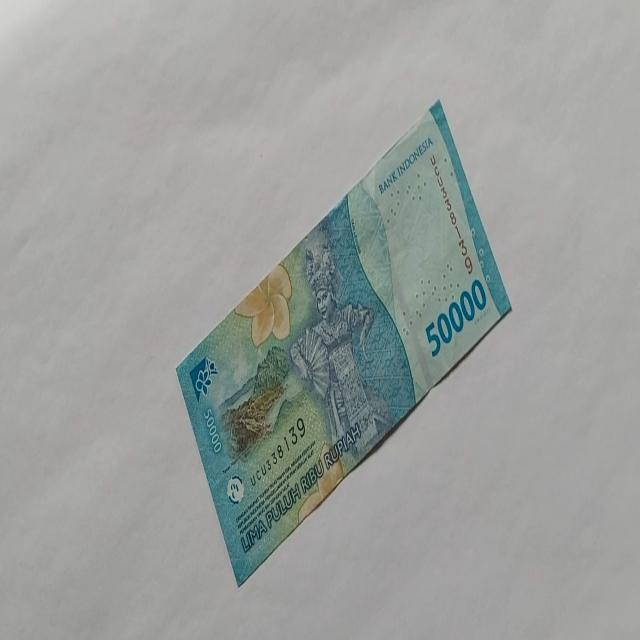lima puluh ribu rupiah: (174, 97, 512, 587), (424, 278, 487, 358)
